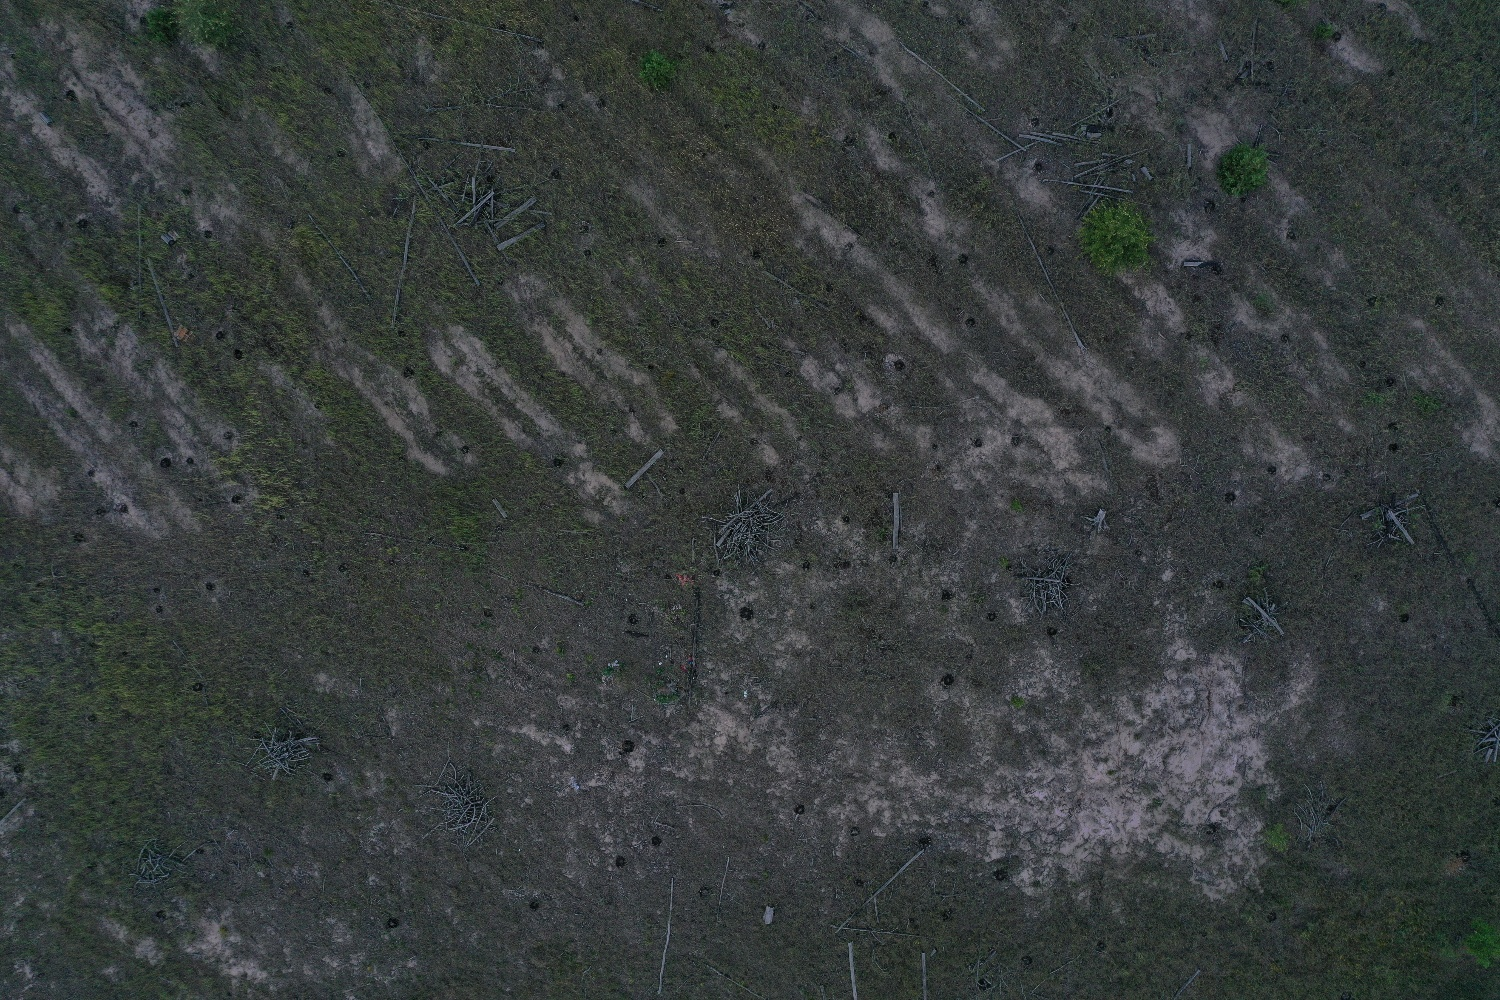branches: (431, 762, 498, 848), (712, 485, 782, 565), (244, 722, 318, 782), (1020, 550, 1079, 621), (1360, 490, 1423, 551), (127, 836, 196, 890), (1239, 587, 1292, 647), (1469, 715, 1500, 766)
